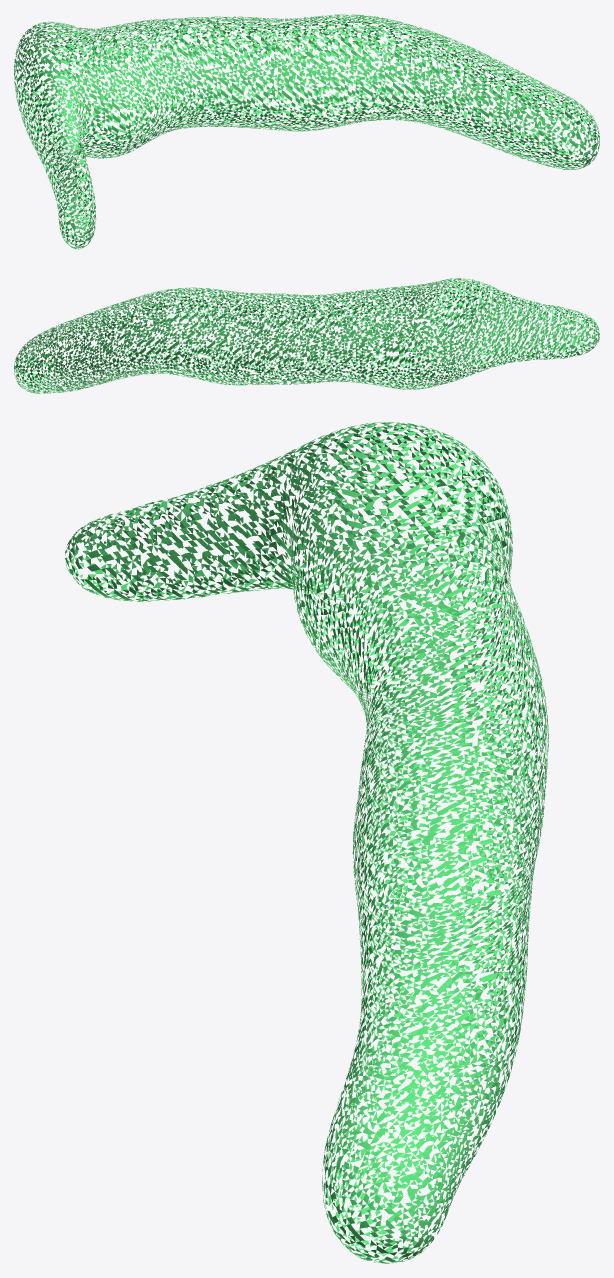
File: morph_020.glb
The picture shows the model from 3 angles, top to bottom: view 1: azimuth 30°, elevation 25°; view 2: azimuth 150°, elevation 25°; view 3: azimuth 270°, elevation 25°; orthographic projection. The views are drawn at different scales.
Bounding box in the file's own units: 121 × 48.54 × 50.02.
